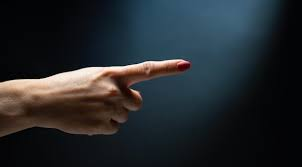pointing_gesture: (34, 58, 191, 137)
